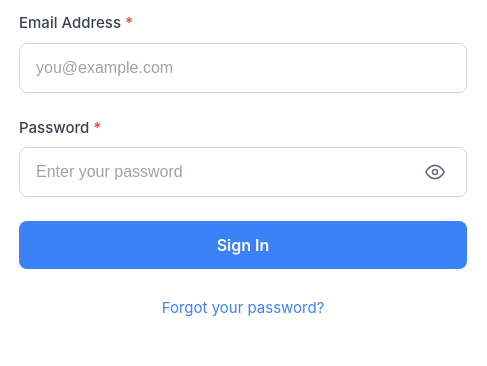
Test: LoginForm › Email Validation › should show error for empty email on blur
Click the field labelled "Email Address*".
click(243, 68)  # box [19, 42, 467, 92]
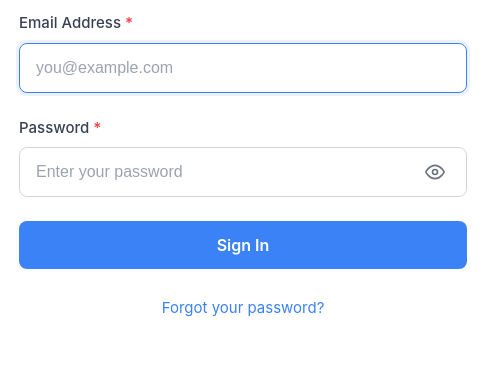
Press Tab
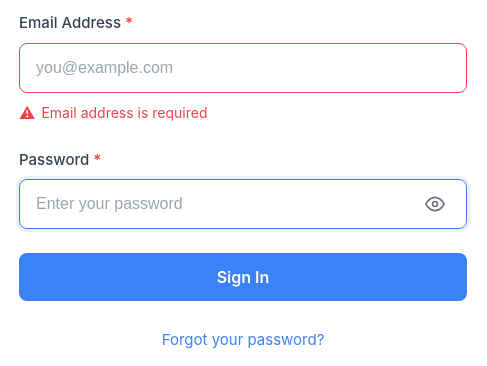
Expected: the text "Email address is required" is shown, [41, 104, 208, 121]
